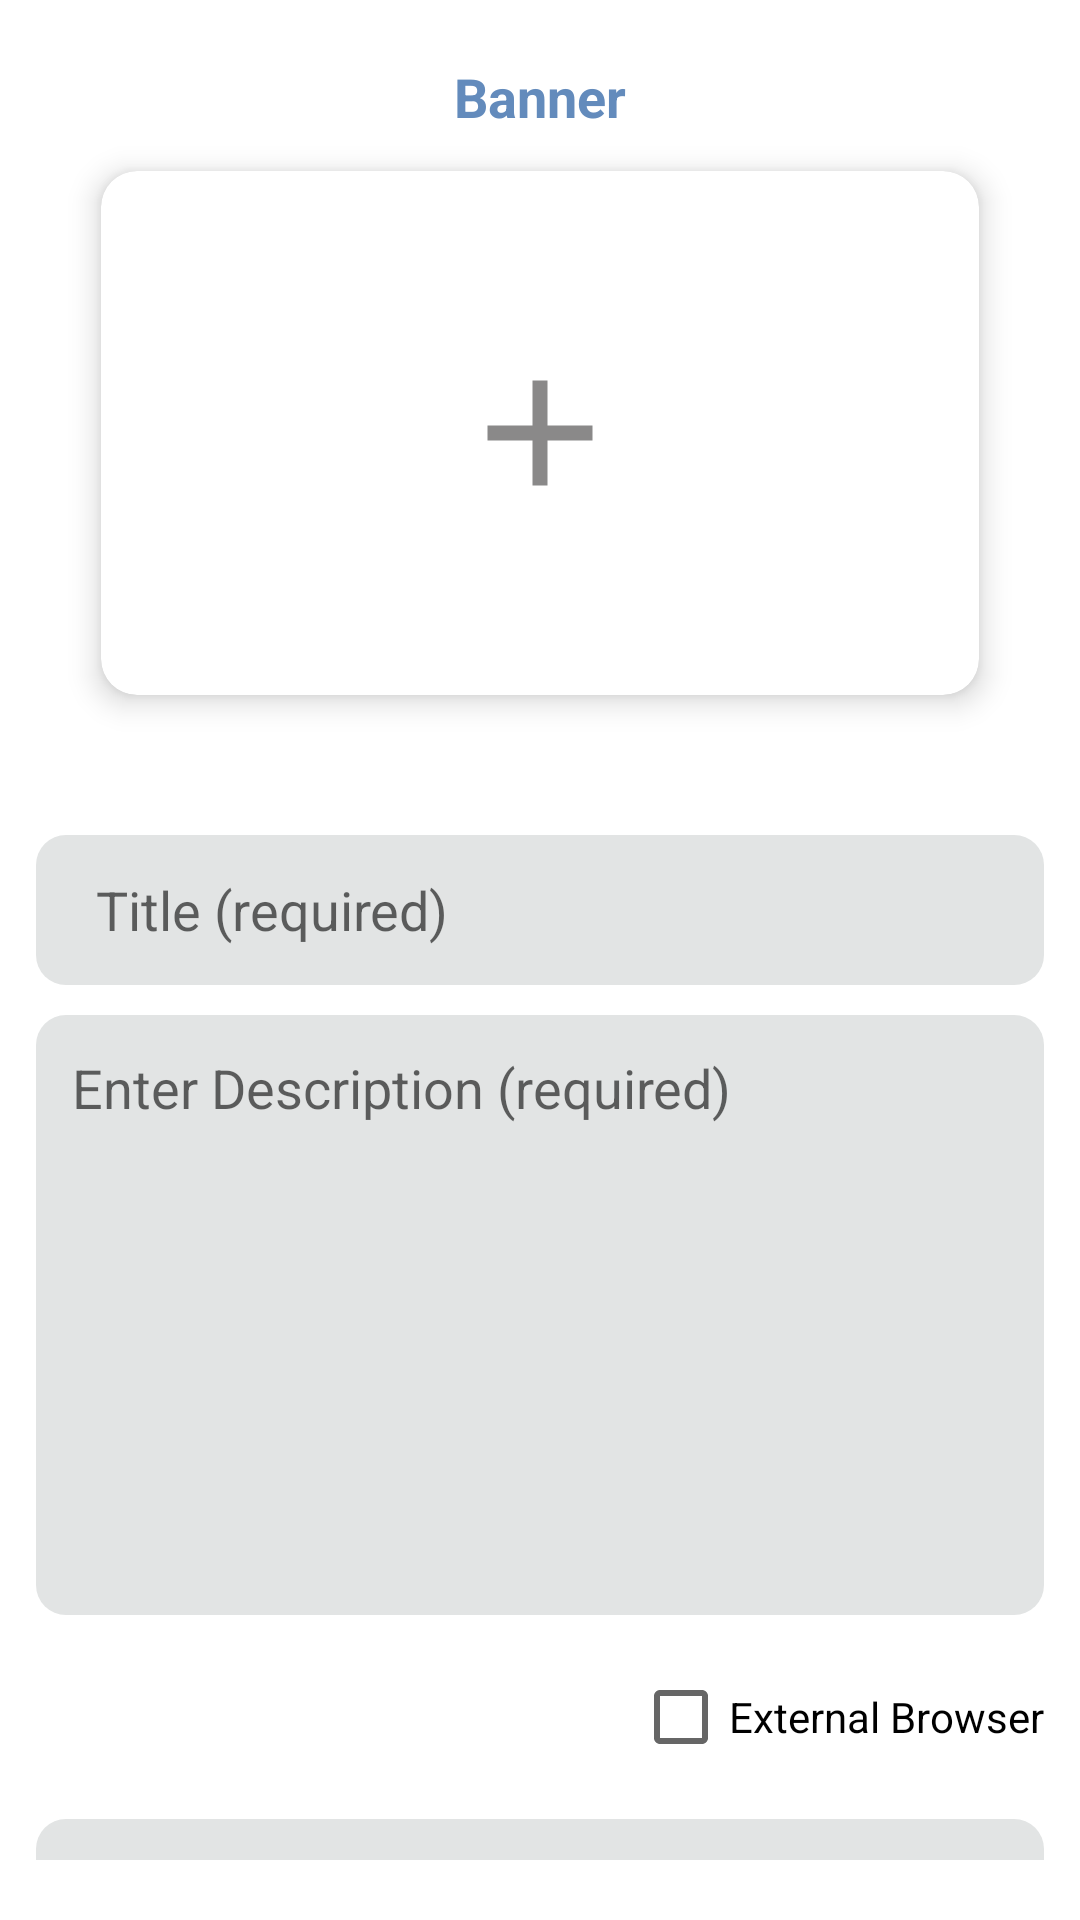

Screen size 1080 × 1920. Icon name, then its center in pixels as (x,y):
add: (540,433)
